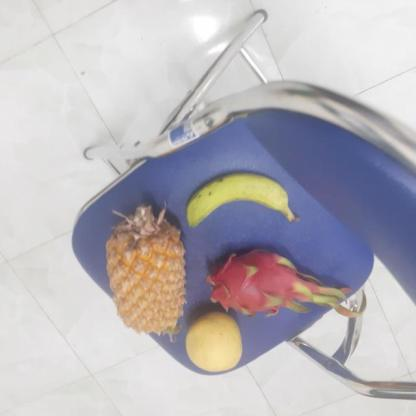annona: (108, 204, 188, 336)
banana: (190, 174, 296, 234)
pear: (184, 312, 245, 372)
pitaya: (211, 248, 319, 317)
